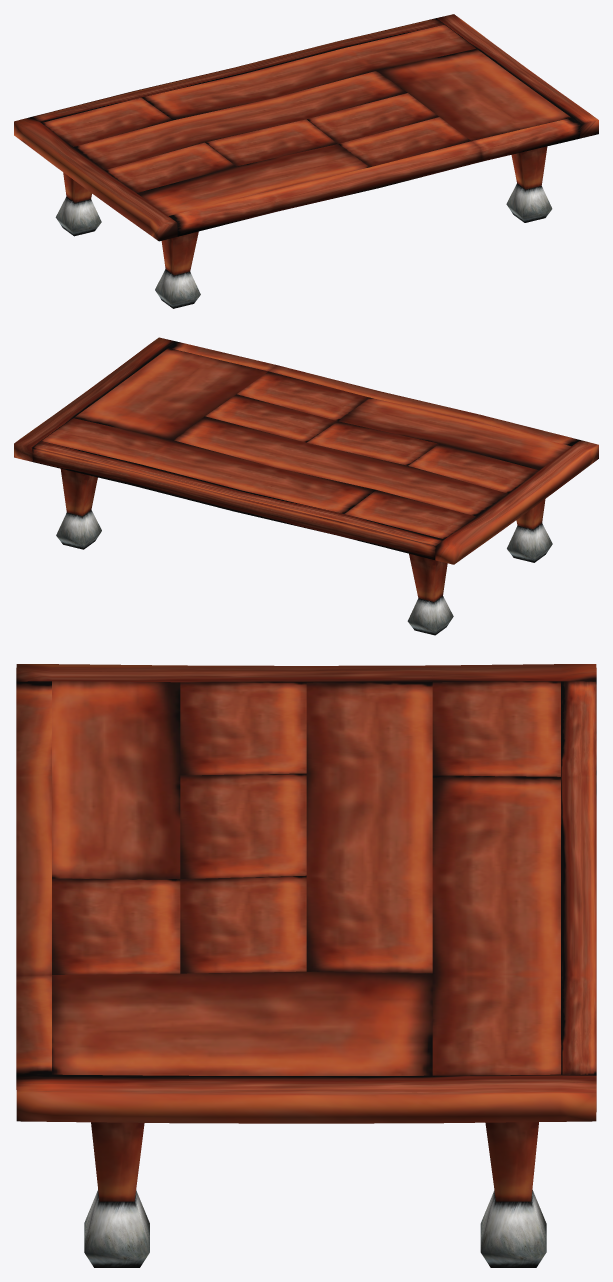
The model's file is table_wood_2m_2.DAE.
The picture shows the model from 3 angles, top to bottom: view 1: azimuth 30°, elevation 25°; view 2: azimuth 150°, elevation 25°; view 3: azimuth 270°, elevation 25°; orthographic projection. The views are drawn at different scales.
Visible parts, largest first — view 1: Box02; view 2: Box02; view 3: Box02.
Part boxes in pixels (x1,y1,x2,y2): Box02: [14, 14, 598, 308]; Box02: [14, 337, 598, 635]; Box02: [16, 664, 596, 1267].
Bounding box in the file's own units: 2.17 × 0.5036 × 1.24.
